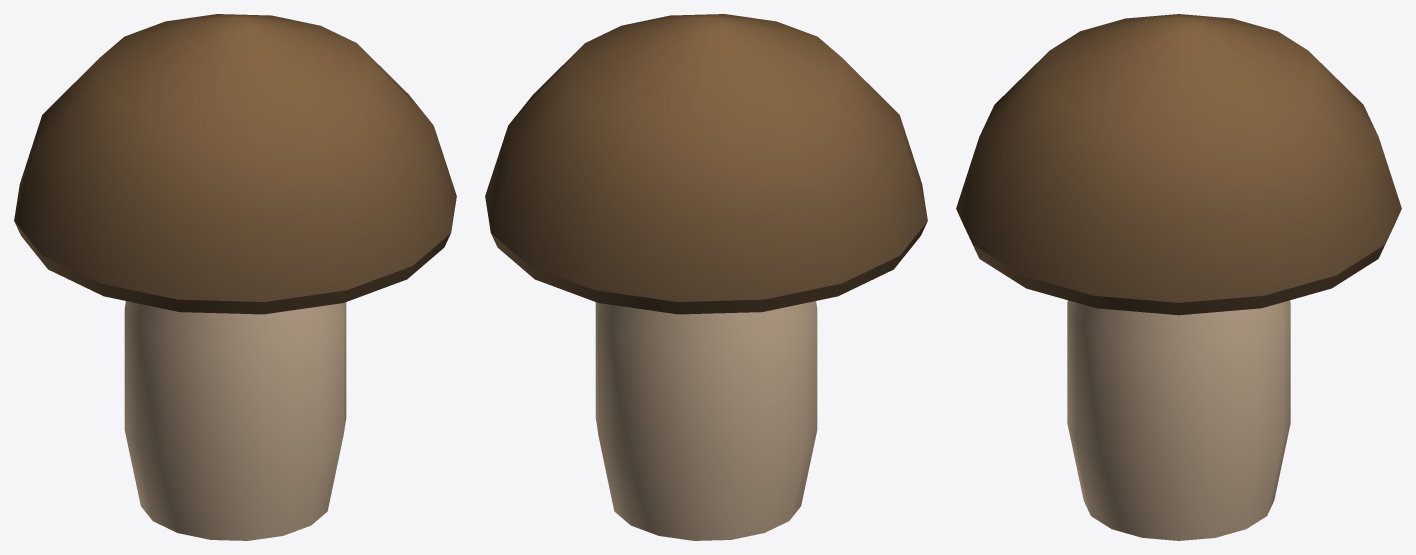
File: Mushoom_05.fbx
3 renders of one model, left to right at view 1: azimuth 30°, elevation 25°; view 2: azimuth 150°, elevation 25°; view 3: azimuth 270°, elevation 25°, orthographic.
Visible parts, largest first — view 1: Mushoom_05_LOD0; view 2: Mushoom_05_LOD0; view 3: Mushoom_05_LOD0.
Part boxes in pixels (x1,y1,x2,y2): Mushoom_05_LOD0: (14, 14, 456, 540); Mushoom_05_LOD0: (485, 14, 927, 540); Mushoom_05_LOD0: (956, 14, 1401, 540).
Size of what is drawn, in the model's own units: 0.1611 by 0.1895 by 0.1611.
